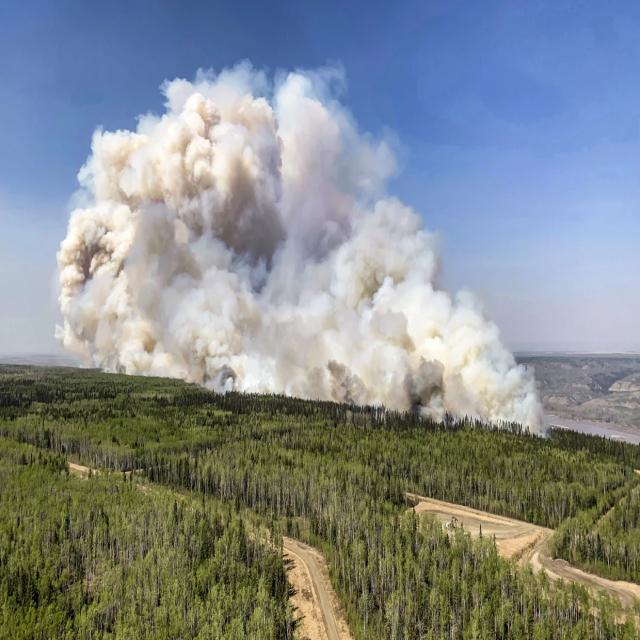Smoke: (53, 70, 478, 438)
